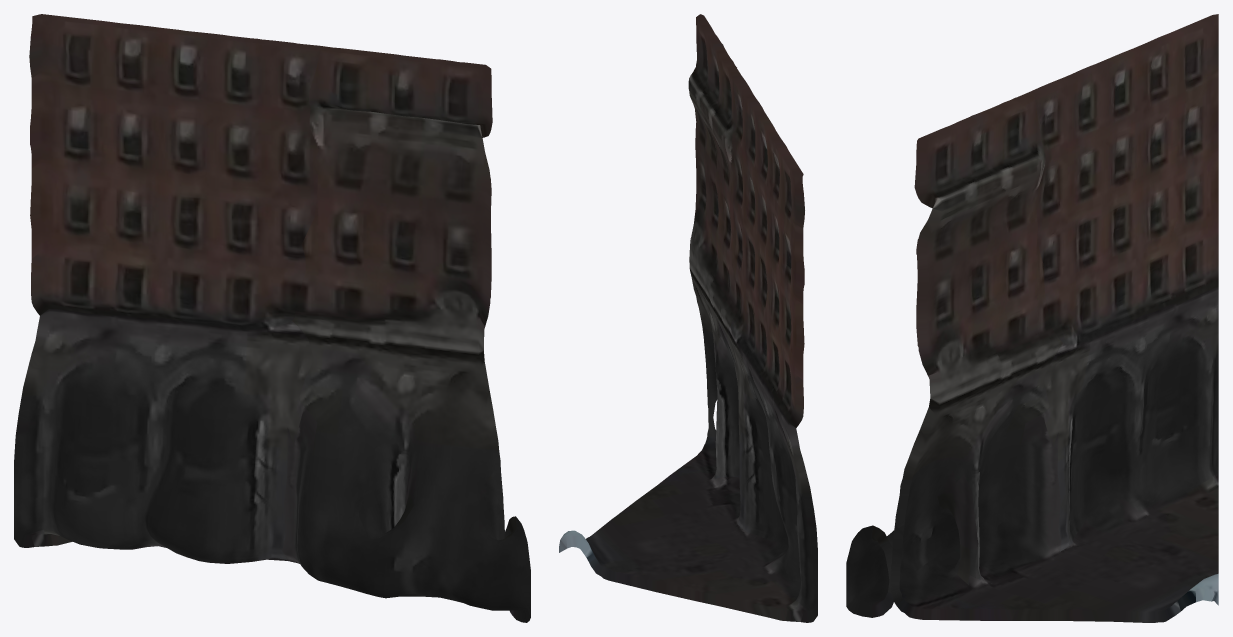
The model's file is z20-167786-405226-h0-yup-uvflip-v3-world.glb.
The picture shows the model from 3 angles, left to right: view 1: azimuth 30°, elevation 25°; view 2: azimuth 150°, elevation 25°; view 3: azimuth 270°, elevation 25°; orthographic projection. The views are drawn at different scales.
Size of the model in its own units: 16.24 by 27.08 by 18.96.
1 material, 1 textured.
